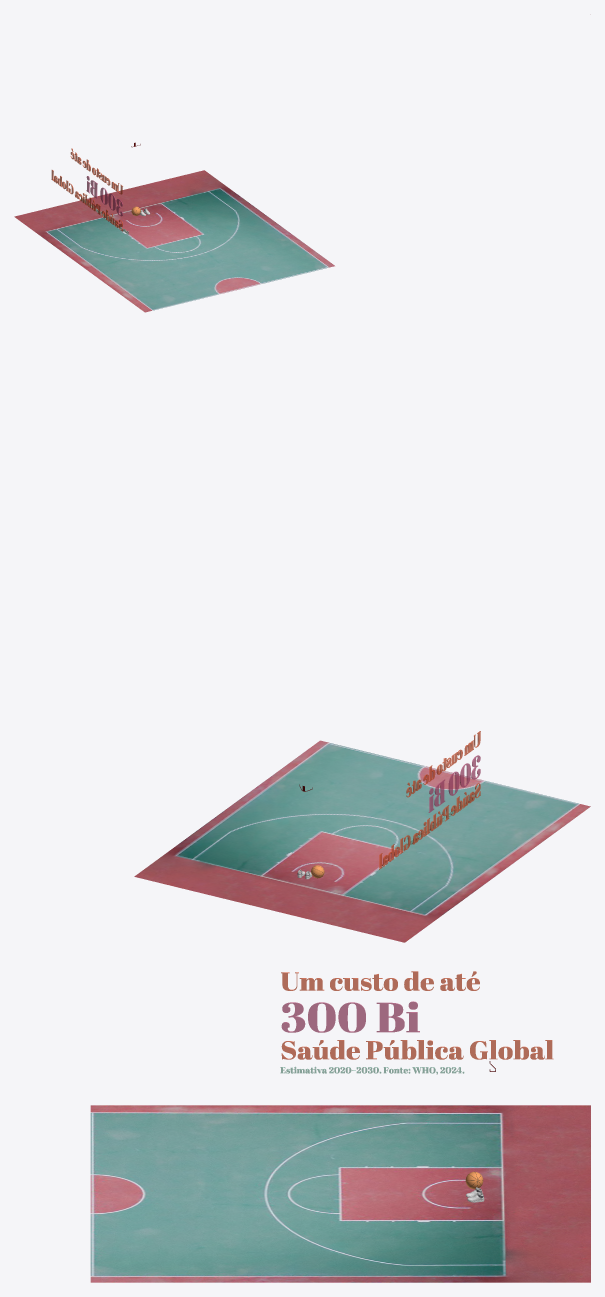
File: quarto02.glb
3 views of the same model, one above another, from view 1: azimuth 30°, elevation 25°; view 2: azimuth 150°, elevation 25°; view 3: azimuth 270°, elevation 25° (orthographic). The views are drawn at different scales.
Parts seen in each view (by area): view 1: floor, GN Instance (×2), Text; view 2: floor, GN Instance (×2), Text; view 3: floor, GN Instance (×3), Text, Text.001, Text.002.
Boxes of the visible parts, box(x1,y1,x2,y2) form: floor: box(14, 170, 334, 312); GN Instance (×2): box(51, 148, 122, 231); Text: box(52, 149, 122, 230); floor: box(134, 740, 590, 942); GN Instance (×2): box(379, 731, 480, 869); Text: box(379, 731, 480, 869); floor: box(90, 1105, 590, 1282); GN Instance (×3): box(280, 971, 552, 1074); Text: box(281, 971, 551, 1059); Text.001: box(282, 1002, 419, 1032); Text.002: box(281, 1067, 463, 1073).
Size of what is drawn, in the model's own units: 49.18 by 23.04 by 30.2.
9 materials, 2 textured.
